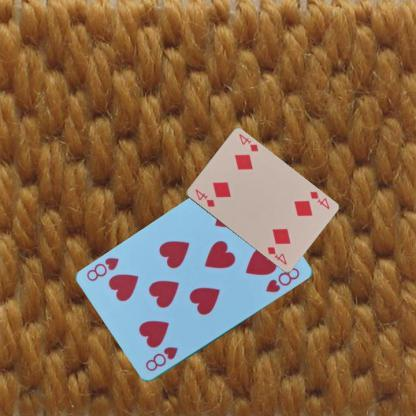4d: (192, 186, 216, 208), (306, 189, 330, 211)
8h: (142, 344, 180, 374)
